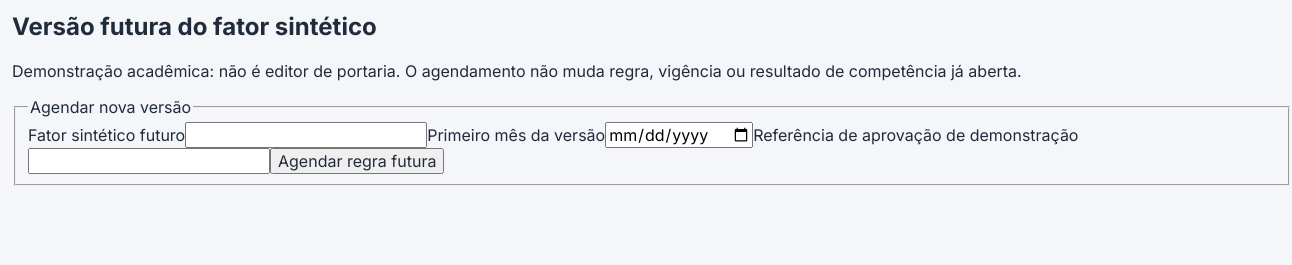
Scenario: future configuration command boundary › retains the exact future-rule operation after a lost response
The image size is (1292, 265).
Type "0,75" into the field labelled "Fator sintético futuro".
click(306, 135); type("0,75")  # box left=185, top=122, right=427, bottom=148
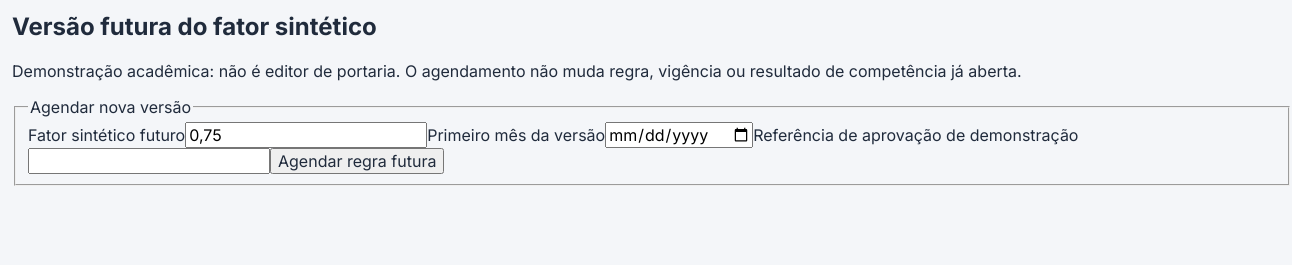
Type "2026-11-01" into the date field labelled "Primeiro mês da versão".
click(679, 135); type("2026-11-01")  # box left=605, top=122, right=753, bottom=148
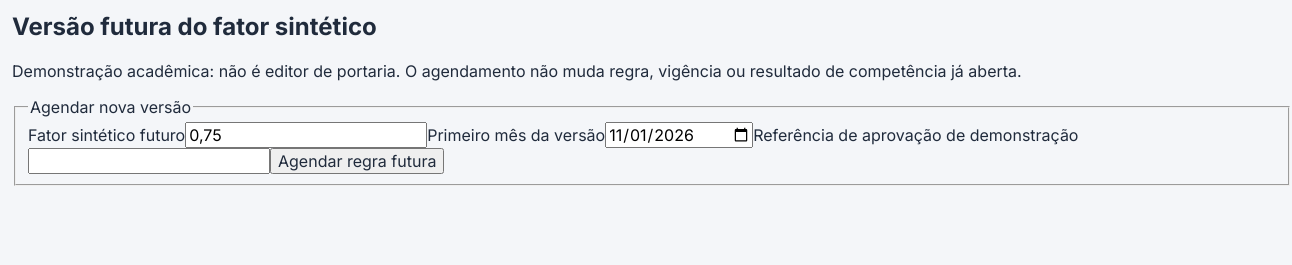
Type "DEMO-APROVACAO-V2" into the field labelled "Referência de aprovação de demonstração".
click(149, 161); type("DEMO-APROVACAO-V2")  # box left=28, top=148, right=270, bottom=174
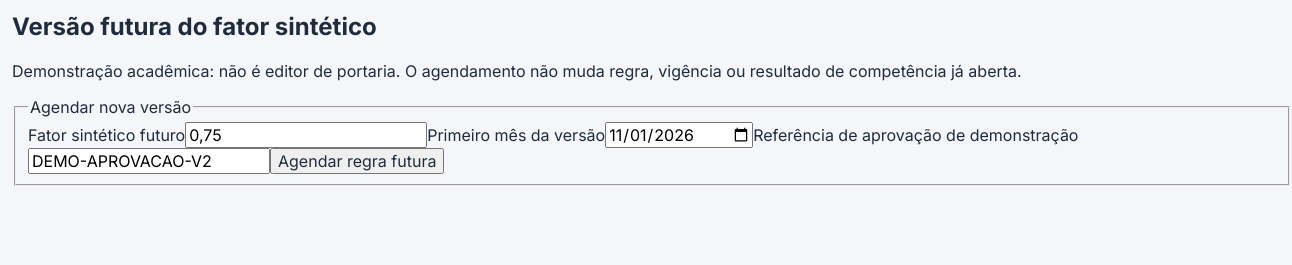
Click the button "Agendar regra futura".
click(357, 161)  # box left=270, top=148, right=444, bottom=174
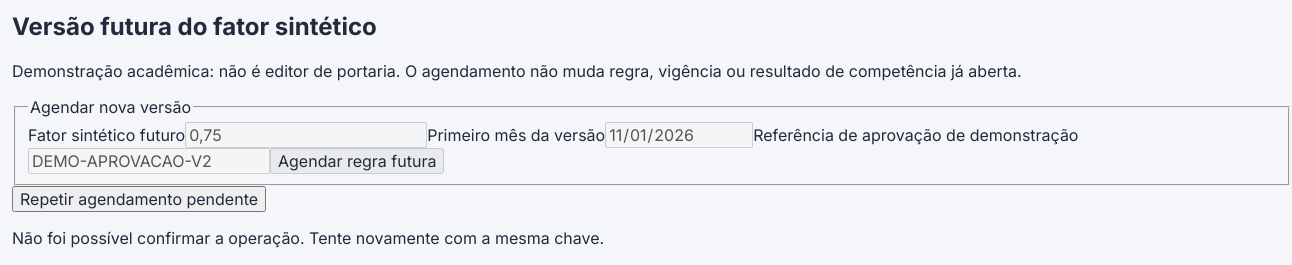
Click the button "Repetir agendamento pendente".
click(139, 199)  # box left=12, top=186, right=266, bottom=212
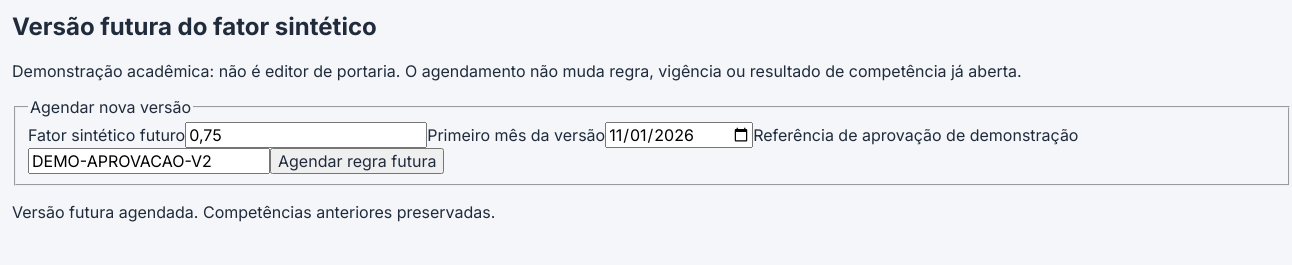
expect the text "Versão futura agendada. Competências anteriores preservadas." is shown: met, box left=12, top=202, right=495, bottom=222
